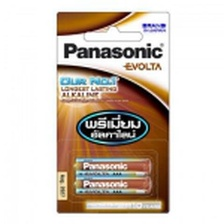battery: (72, 172, 155, 198), (71, 156, 153, 177)
book: (51, 6, 174, 218)
